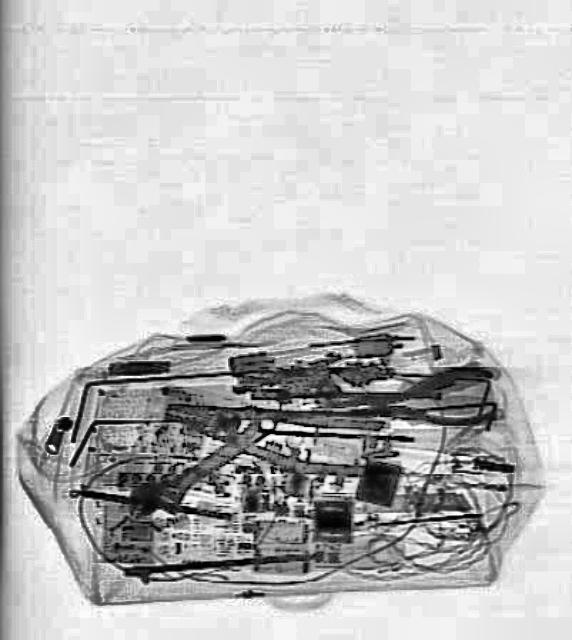Pliers: (160, 372, 384, 486), (311, 361, 495, 439)
Wrench: (119, 398, 284, 528)
